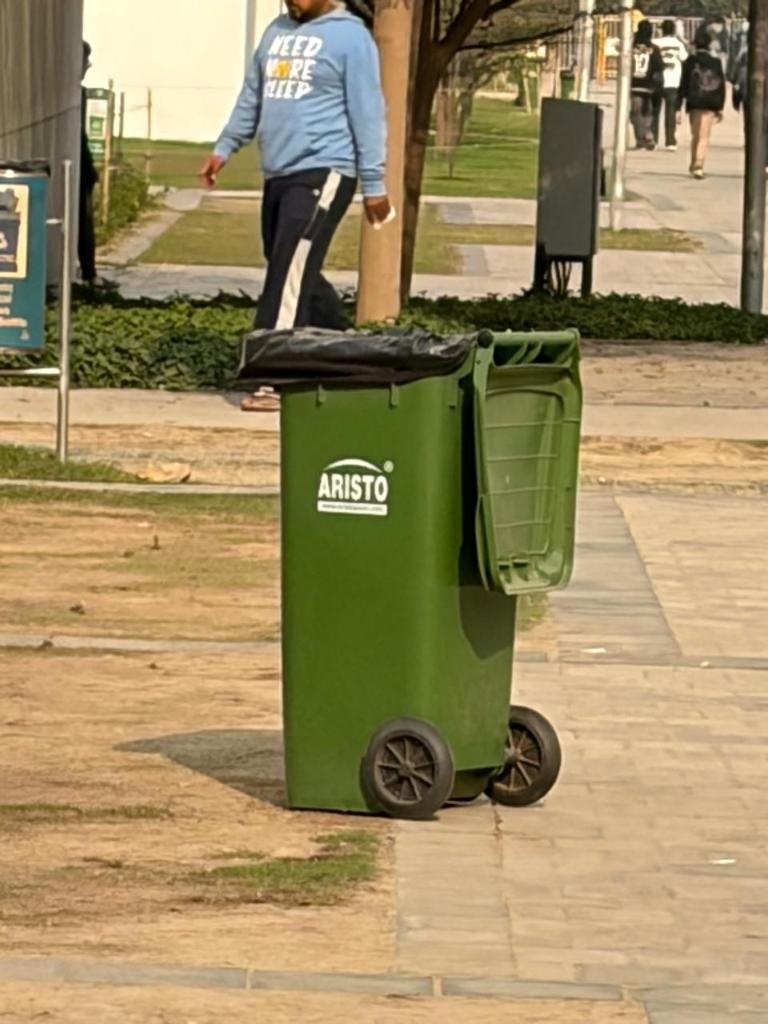dustbin: (238, 295, 596, 835)
